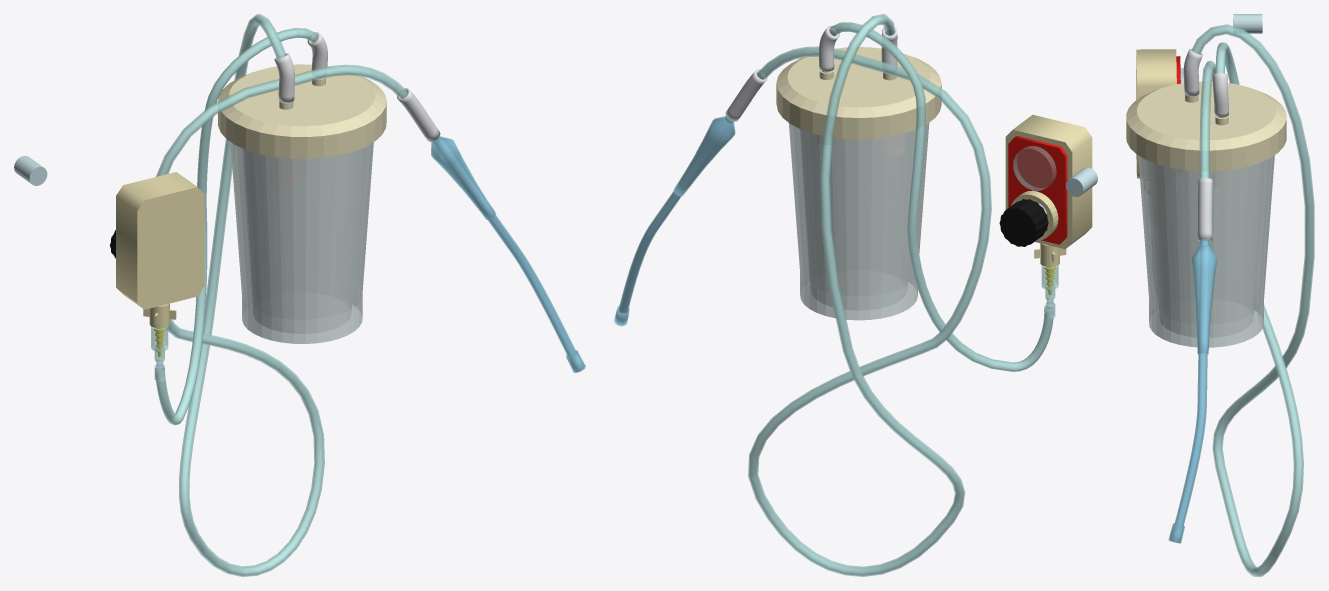
File: suction-canister.fbx
3 renders of one model, left to right at view 1: azimuth 30°, elevation 25°; view 2: azimuth 150°, elevation 25°; view 3: azimuth 270°, elevation 25°, orthographic. The views are drawn at different scales.
Parts seen in each view (by area): view 1: Container, SuctionTube, Lid, outletBack, BezierCurve, yankauer, yankauerHandle, BezierCurve.001, TopRubberConnector; view 2: Container, SuctionTube, Lid, BezierCurve, outletBack, outletfront, yankauer, nob, yankauerHandle, Cylinder.001, BezierCurve.001, Cylinder (+2 smaller); view 3: Container, SuctionTube, Lid, yankauer, yankauerHandle, outletBack, BezierCurve.001, TopRubberConnector, BezierCurve.002, BezierCurve, valve01.
Part boxes in pixels (<box>): Container: <box>230,142,373,343</box>; SuctionTube: <box>156,14,407,576</box>; Lid: <box>218,64,386,158</box>; outletBack: <box>116,172,204,309</box>; BezierCurve: <box>155,28,317,425</box>; yankauer: <box>432,136,583,371</box>; yankauerHandle: <box>431,136,495,219</box>; BezierCurve.001: <box>397,88,440,141</box>; TopRubberConnector: <box>274,53,294,102</box>; Container: <box>789,123,929,320</box>; SuctionTube: <box>748,14,991,576</box>; Lid: <box>776,47,941,139</box>; BezierCurve: <box>829,22,1053,371</box>; outletBack: <box>1005,114,1092,249</box>; outletfront: <box>1008,136,1067,244</box>; yankauer: <box>616,116,733,324</box>; nob: <box>999,199,1048,246</box>; yankauerHandle: <box>673,116,735,196</box>; Cylinder.001: <box>1013,146,1056,190</box>; BezierCurve.001: <box>725,69,767,121</box>; Cylinder: <box>1011,190,1058,240</box>; Container: <box>1138,155,1274,347</box>; SuctionTube: <box>1192,24,1314,576</box>; Lid: <box>1126,81,1286,171</box>; yankauer: <box>1170,239,1209,542</box>; yankauerHandle: <box>1191,245,1217,353</box>; outletBack: <box>1136,49,1176,178</box>; BezierCurve.001: <box>1197,178,1212,240</box>; TopRubberConnector: <box>1183,49,1202,96</box>; BezierCurve.002: <box>1213,73,1228,117</box>; BezierCurve: <box>1215,42,1239,84</box>; valve01: <box>1233,14,1262,33</box>.
Bounding box in the file's own units: 64.31 × 66.34 × 21.
